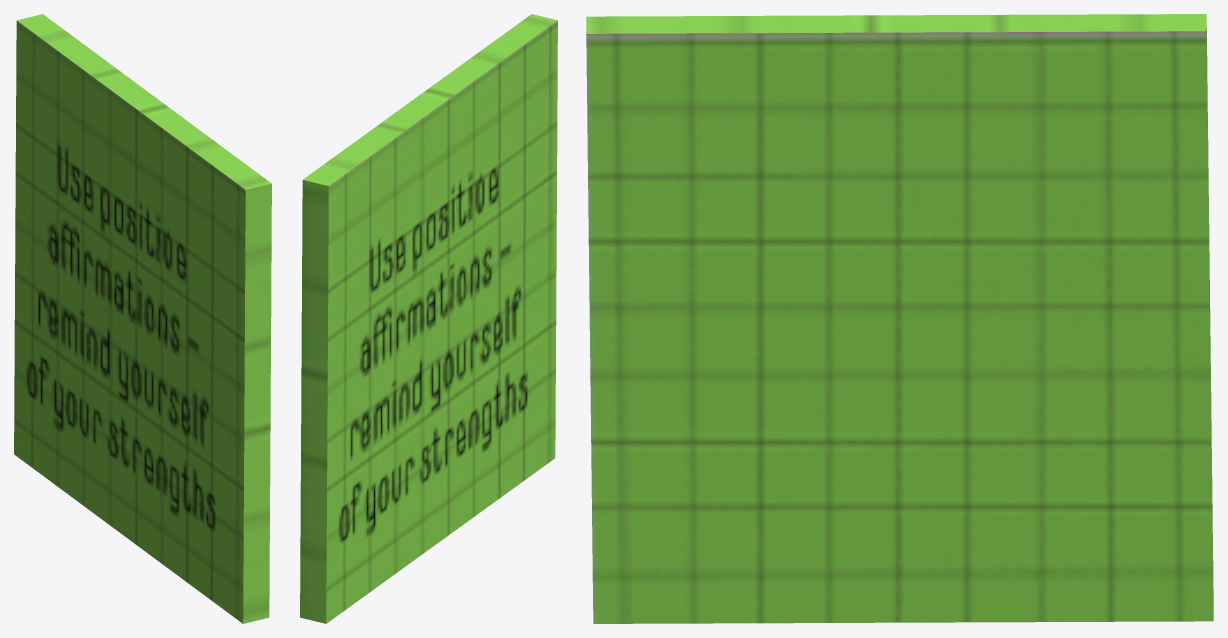
File: note10.fbx
3 renders of one model, left to right at view 1: azimuth 30°, elevation 25°; view 2: azimuth 150°, elevation 25°; view 3: azimuth 270°, elevation 25°, orthographic. The views are drawn at different scales.
Parts seen in each view (by area): view 1: note10; view 2: note10; view 3: note10.
Part boxes in pixels (x1=…): note10: x1=14, y1=14, x2=271, y2=623; note10: x1=300, y1=14, x2=557, y2=623; note10: x1=586, y1=14, x2=1213, y2=623.
Size of the model in its own units: 1.53 by 24.35 by 23.36.
1 material, 1 textured.
